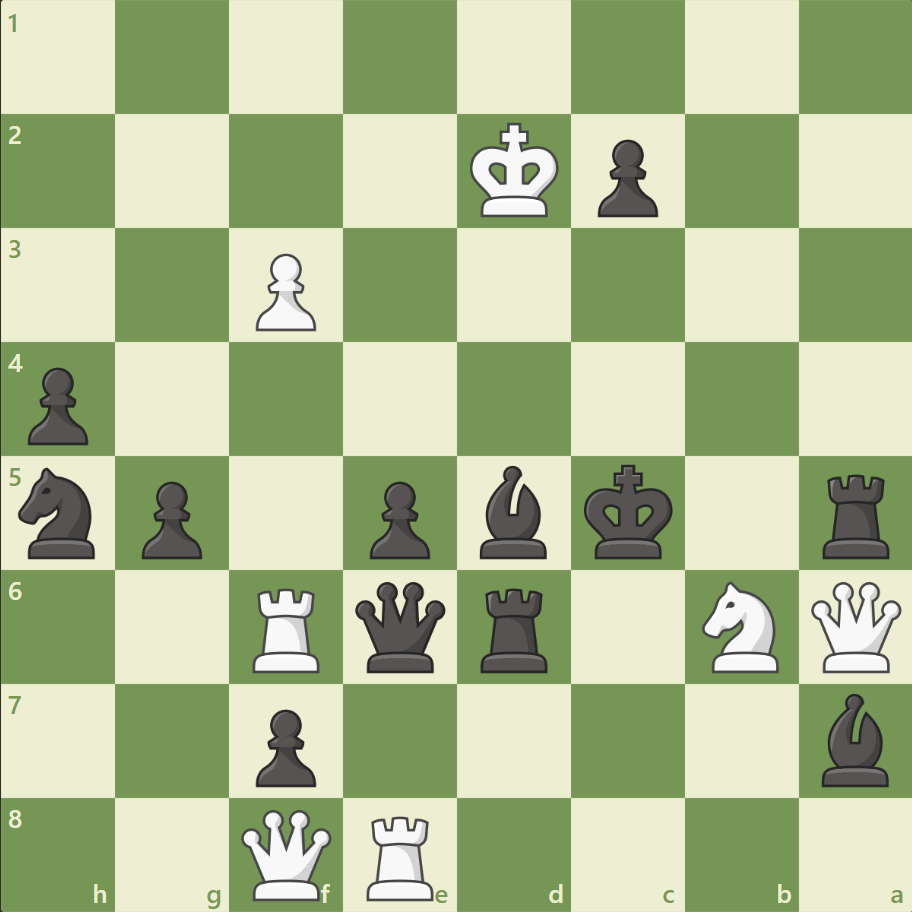K: (465, 117, 565, 225)
N: (692, 575, 789, 677)
P: (247, 246, 322, 337)
Q: (805, 576, 904, 676), (237, 804, 336, 903)
R: (246, 579, 329, 676), (360, 806, 442, 904)
b: (812, 687, 896, 790), (471, 460, 555, 563)
k: (579, 458, 679, 566)
n: (11, 461, 108, 564)
p: (247, 700, 322, 791), (133, 473, 208, 564), (20, 359, 95, 450), (361, 473, 435, 564), (588, 132, 662, 223)
q: (351, 576, 450, 676)
r: (473, 579, 556, 676), (814, 466, 897, 563)
